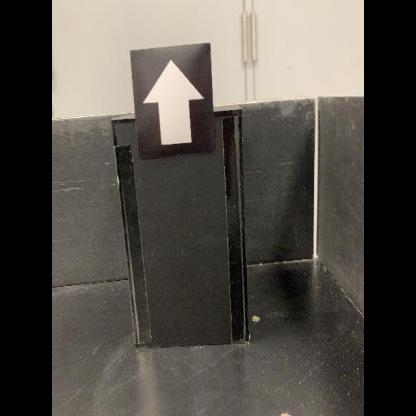up: (130, 42, 218, 164)
